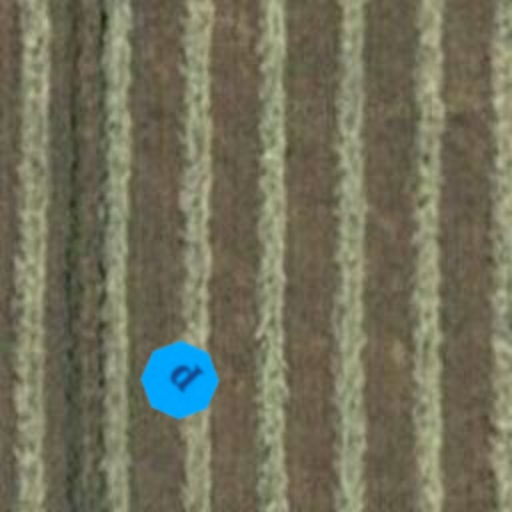octagon: (124, 324, 236, 436)
